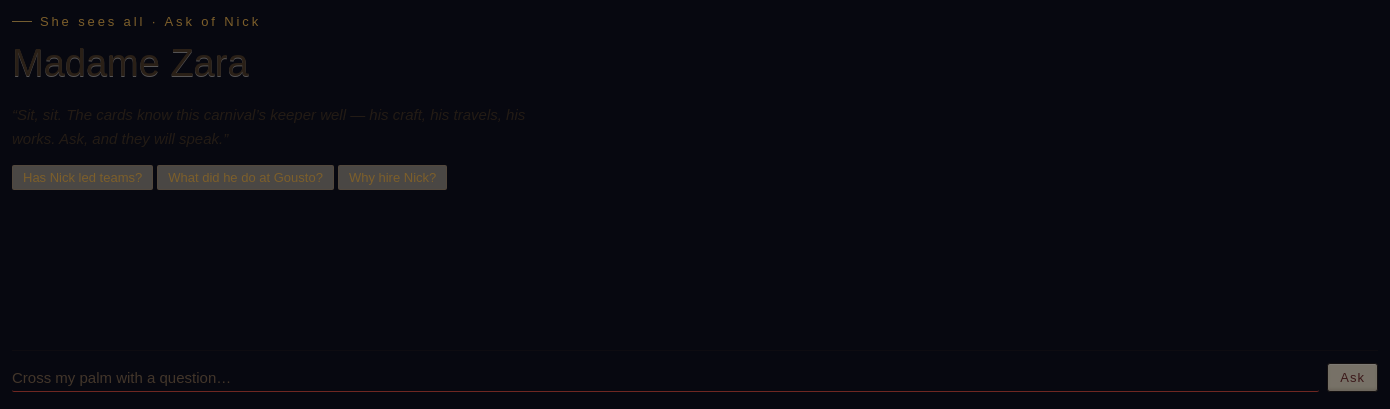
Test case: FortunePanel › streams a reading and renders the first line as the card heading
The image size is (1390, 409).
Step 1. Type "Has Nick led teams?" into the field → (666, 379), box [12, 366, 1319, 392]
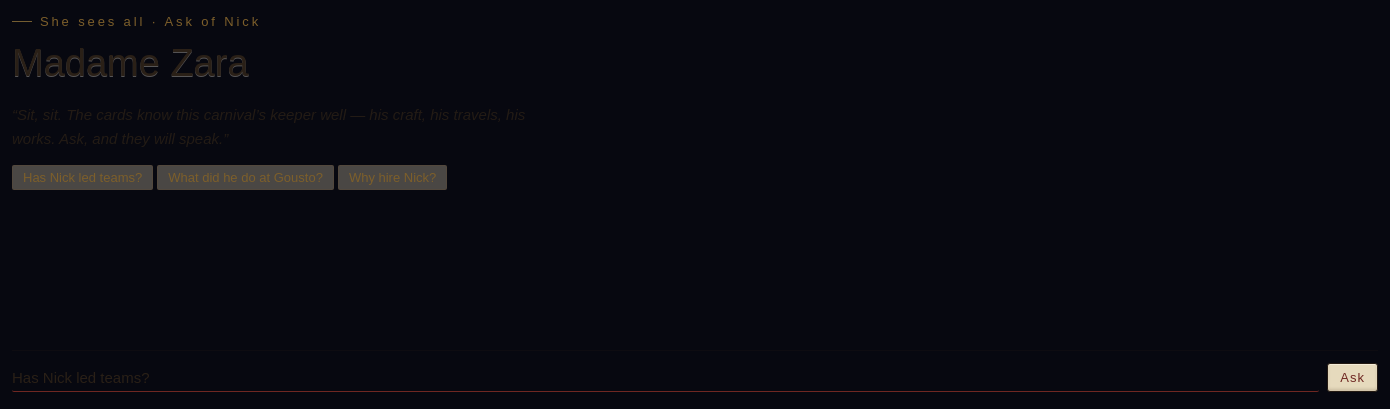
Step 2. Click the button "Ask" → (1353, 377), box [1327, 362, 1378, 392]
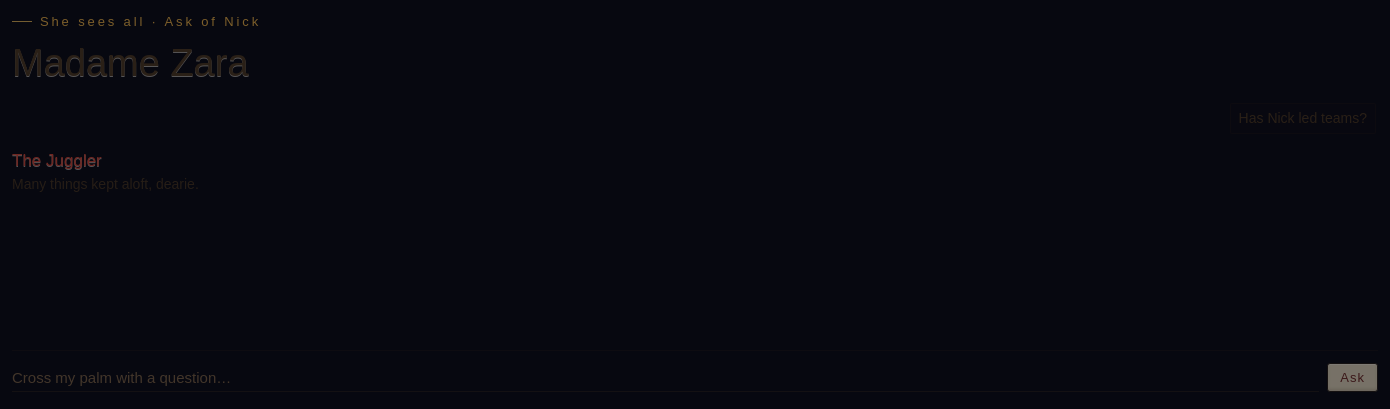
Expected: the text "Has Nick led teams?" is shown, [1230, 103, 1376, 134]
Now the text "The Juggler" is shown, box [12, 151, 102, 170]
Now the text "Many things kept aloft, dearie." is shown, box [12, 176, 199, 192]
